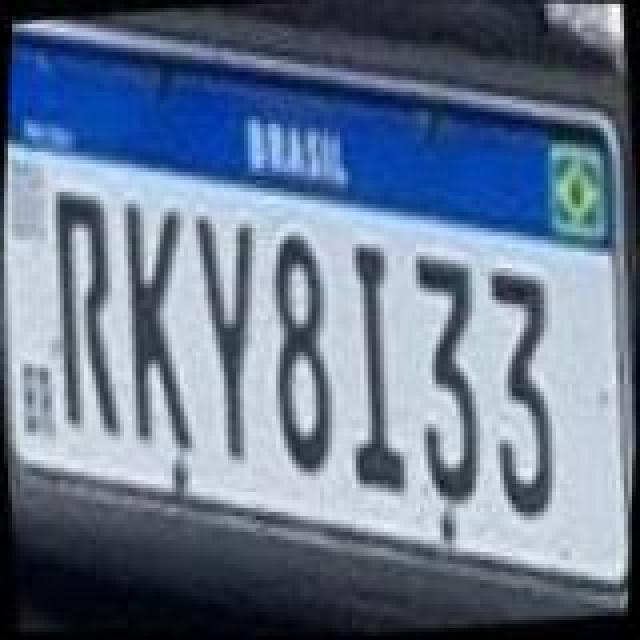3: (476, 260, 572, 528), (400, 244, 496, 504)
8: (254, 218, 346, 478)
I: (326, 232, 418, 500)
K: (108, 184, 208, 456)
R: (38, 176, 134, 444)
Y: (182, 200, 278, 460)
